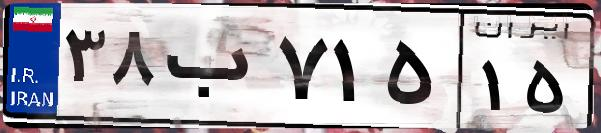1: (330, 28, 385, 110), (475, 38, 525, 113)
3: (57, 26, 110, 100)
5: (385, 28, 445, 110), (525, 38, 570, 115)
7: (270, 28, 330, 110)
8: (110, 28, 158, 98)
ب: (158, 20, 270, 120)
